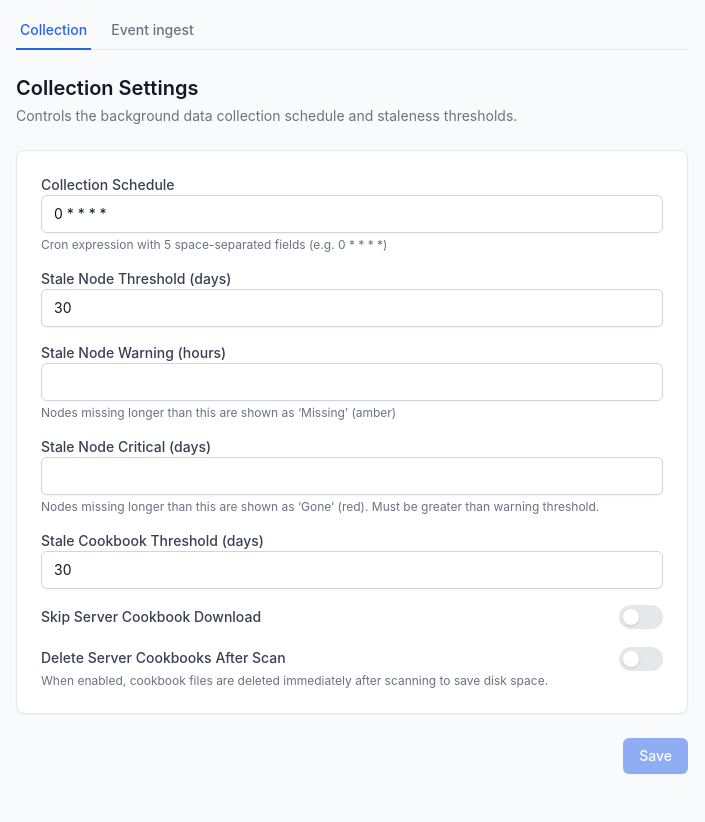
Test case: AdminCollectionPage › shows save error when saveCollection rejects
Check: the heading "Collection Settings" is shown, box [16,76,198,100]
Step 1. Type "x" into the field showing "0 * * * *" → (352, 214), box [41,195,663,233]
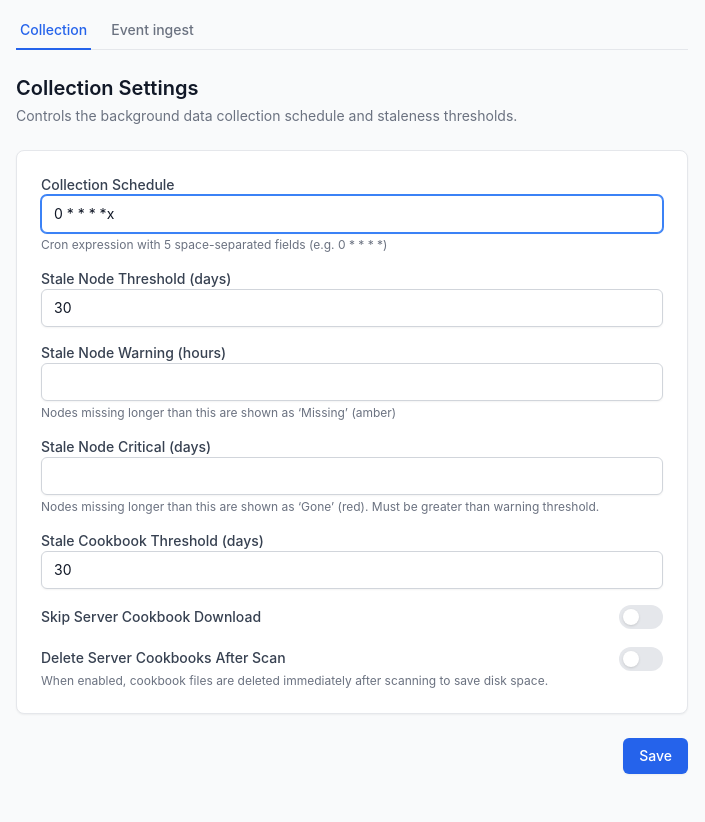
Step 2. Click the button "Save" → (656, 756), box [623,738,688,774]
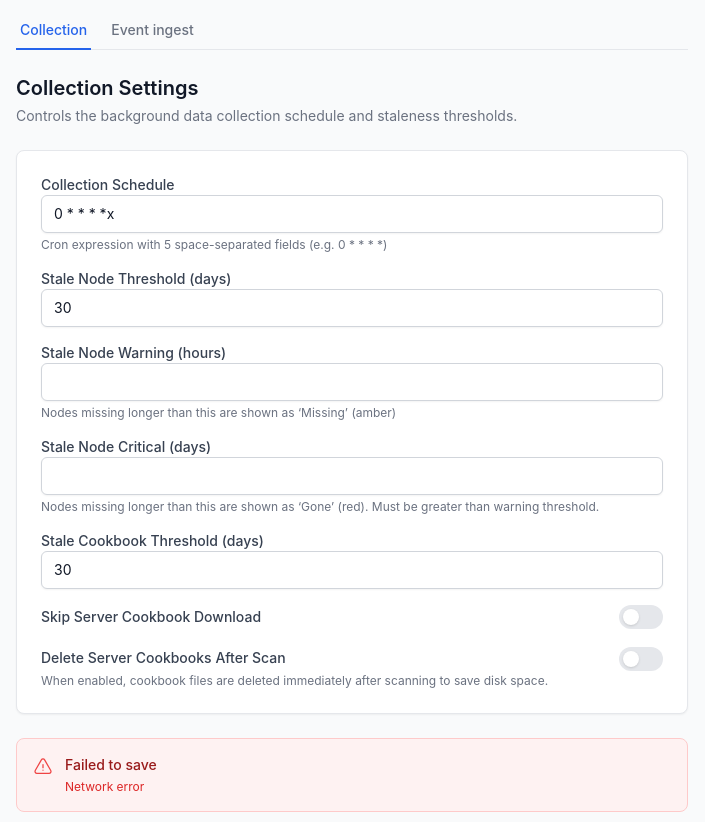
Check: the text "Network error" is shown, box [65,779,144,794]
